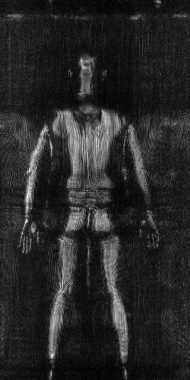gun: (119, 162, 131, 190)
